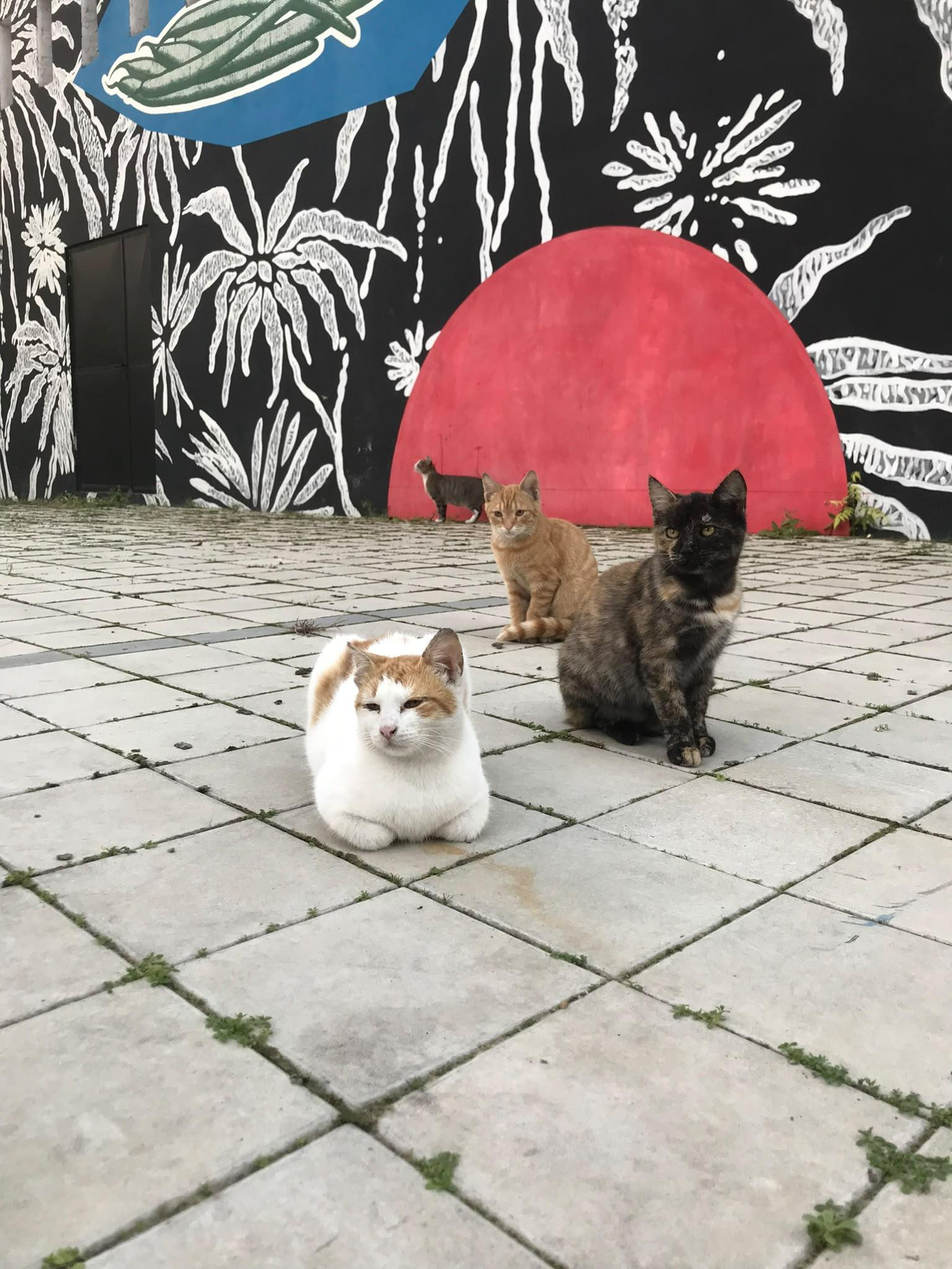macka: (558, 467, 751, 767), (301, 626, 489, 850), (482, 471, 599, 641), (414, 456, 484, 523)
